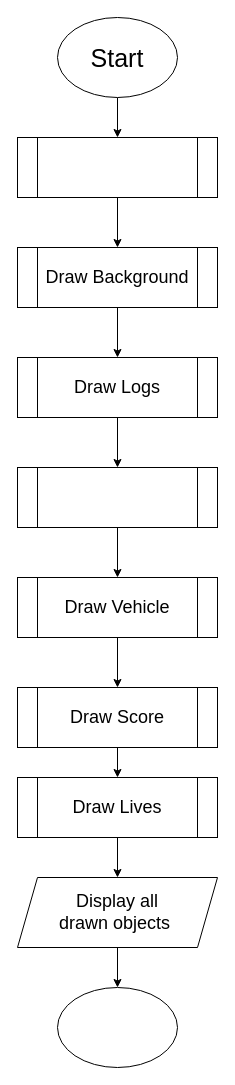
Some shapes in this 235 by 1085 pixel diagram are drawn without their labels. The box of each missing label's shape, as (x1, y1, x2, y2) in pixels:
Clear window: (16, 136, 218, 198)
Draw Kangaroo: (16, 466, 218, 528)
Stop: (56, 986, 178, 1068)
